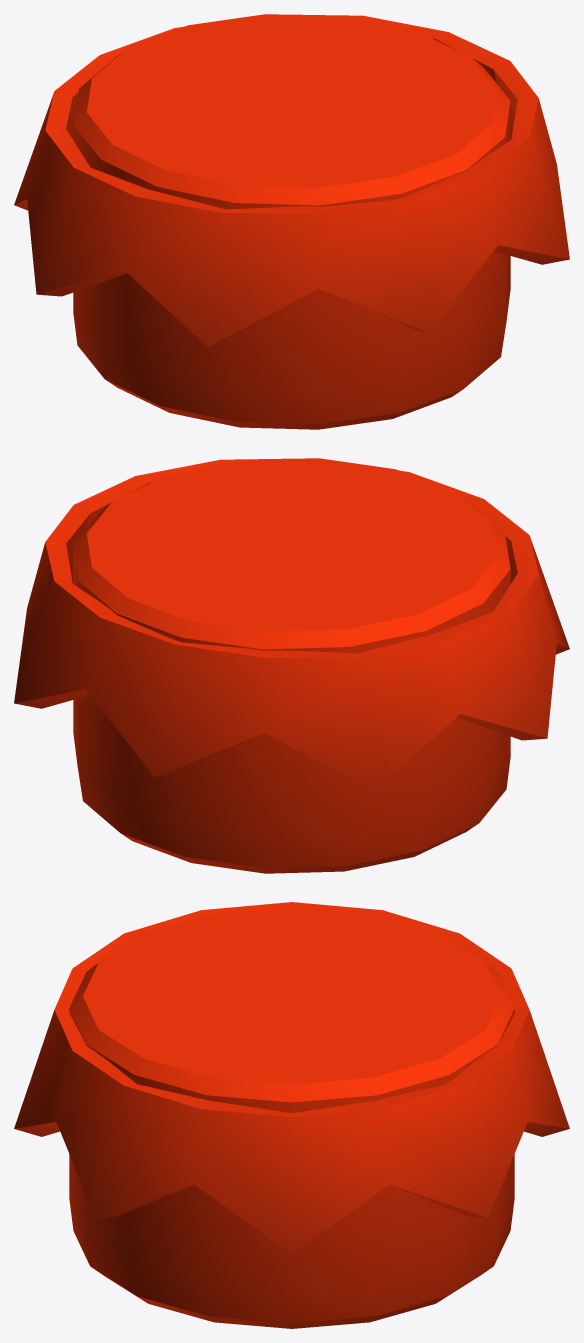
The model's file is Body_Dress_16.fbx.
The picture shows the model from 3 angles, top to bottom: view 1: azimuth 30°, elevation 25°; view 2: azimuth 150°, elevation 25°; view 3: azimuth 270°, elevation 25°; orthographic projection.
Parts seen in each view (by area): view 1: Body_Dress_16; view 2: Body_Dress_16; view 3: Body_Dress_16.
Part boxes in pixels (x1,y1,x2,y2): Body_Dress_16: [14, 14, 569, 429]; Body_Dress_16: [14, 458, 569, 873]; Body_Dress_16: [14, 902, 569, 1328].
Size of the model in its own units: 134 by 61.13 by 125.
